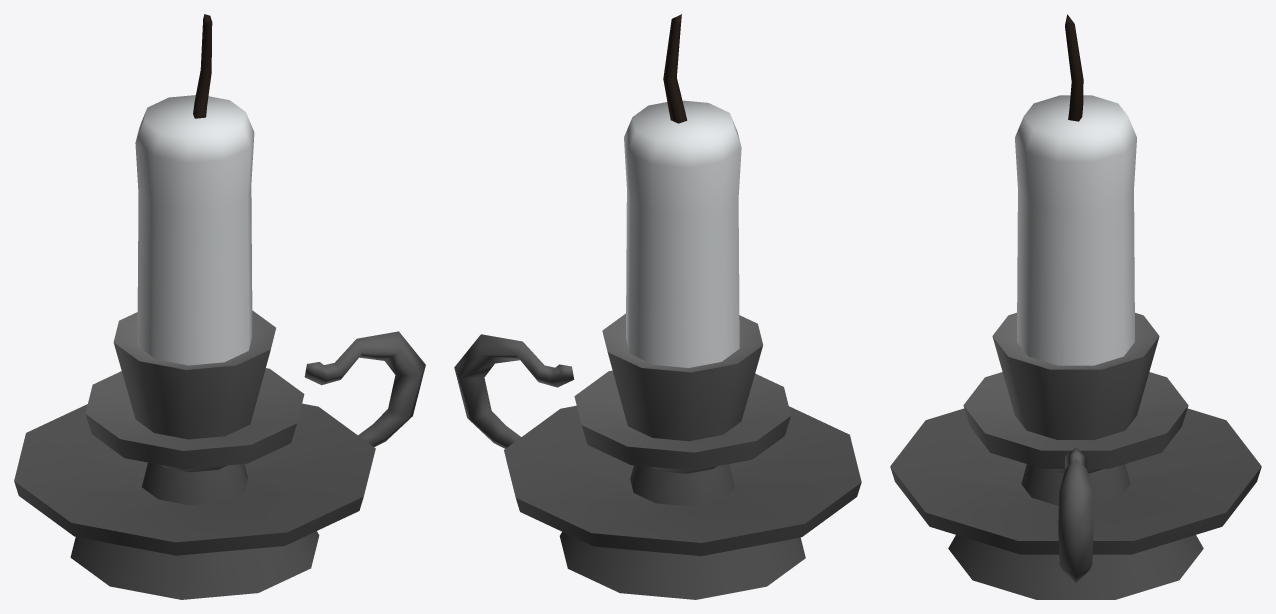
File: CandelStick_A.fbx
3 renders of one model, left to right at view 1: azimuth 30°, elevation 25°; view 2: azimuth 150°, elevation 25°; view 3: azimuth 270°, elevation 25°, orthographic.
Parts seen in each view (by area): view 1: CandelStick_A; view 2: CandelStick_A; view 3: CandelStick_A.
Part boxes in pixels (x1,y1,x2,y2): CandelStick_A: [14, 14, 425, 599]; CandelStick_A: [454, 14, 861, 599]; CandelStick_A: [890, 14, 1261, 599].
Bounding box in the file's own units: 30.72 × 40.93 × 25.67.
